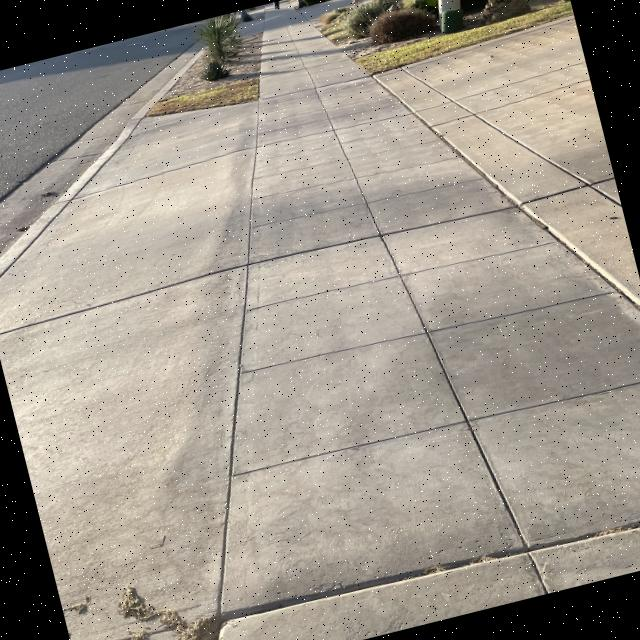curb: (18, 116, 162, 190), (0, 187, 71, 280), (134, 54, 220, 117)
walkway: (236, 372, 640, 640), (249, 252, 615, 487), (253, 185, 527, 368), (260, 120, 457, 274), (257, 74, 399, 200), (264, 12, 338, 136)
walkway-edge: (474, 139, 640, 368), (366, 45, 502, 199), (240, 21, 290, 111)
